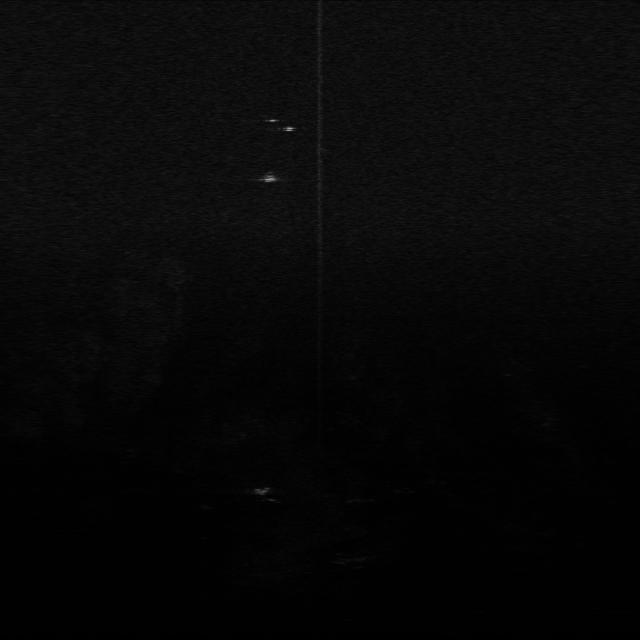rov: (257, 169, 282, 187)
